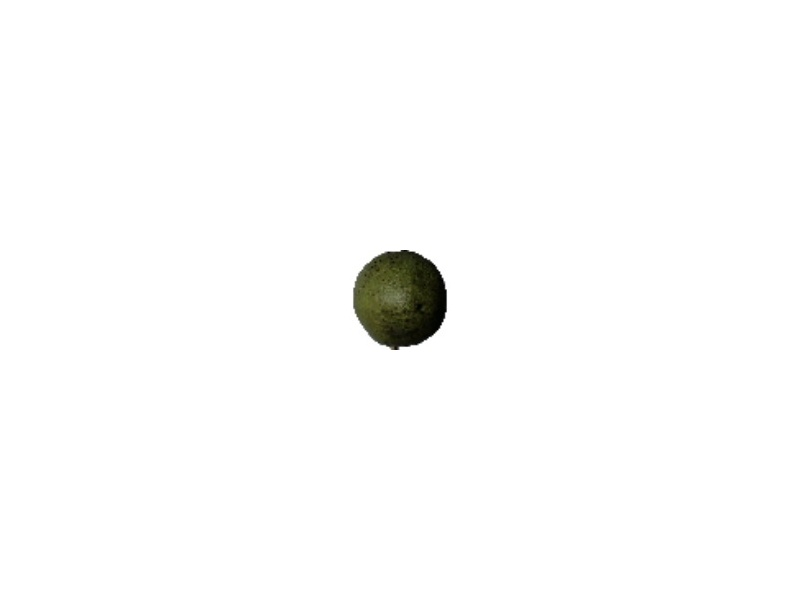abacate: (348, 249, 451, 349)
